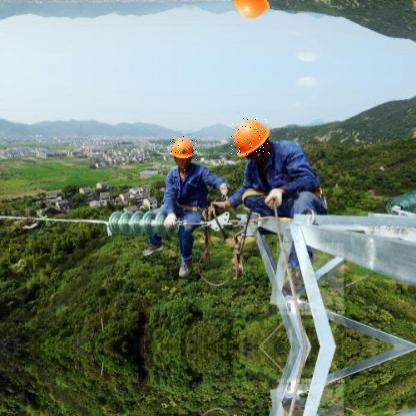safetyhelmet: (231, 118, 272, 158), (170, 136, 198, 162)
